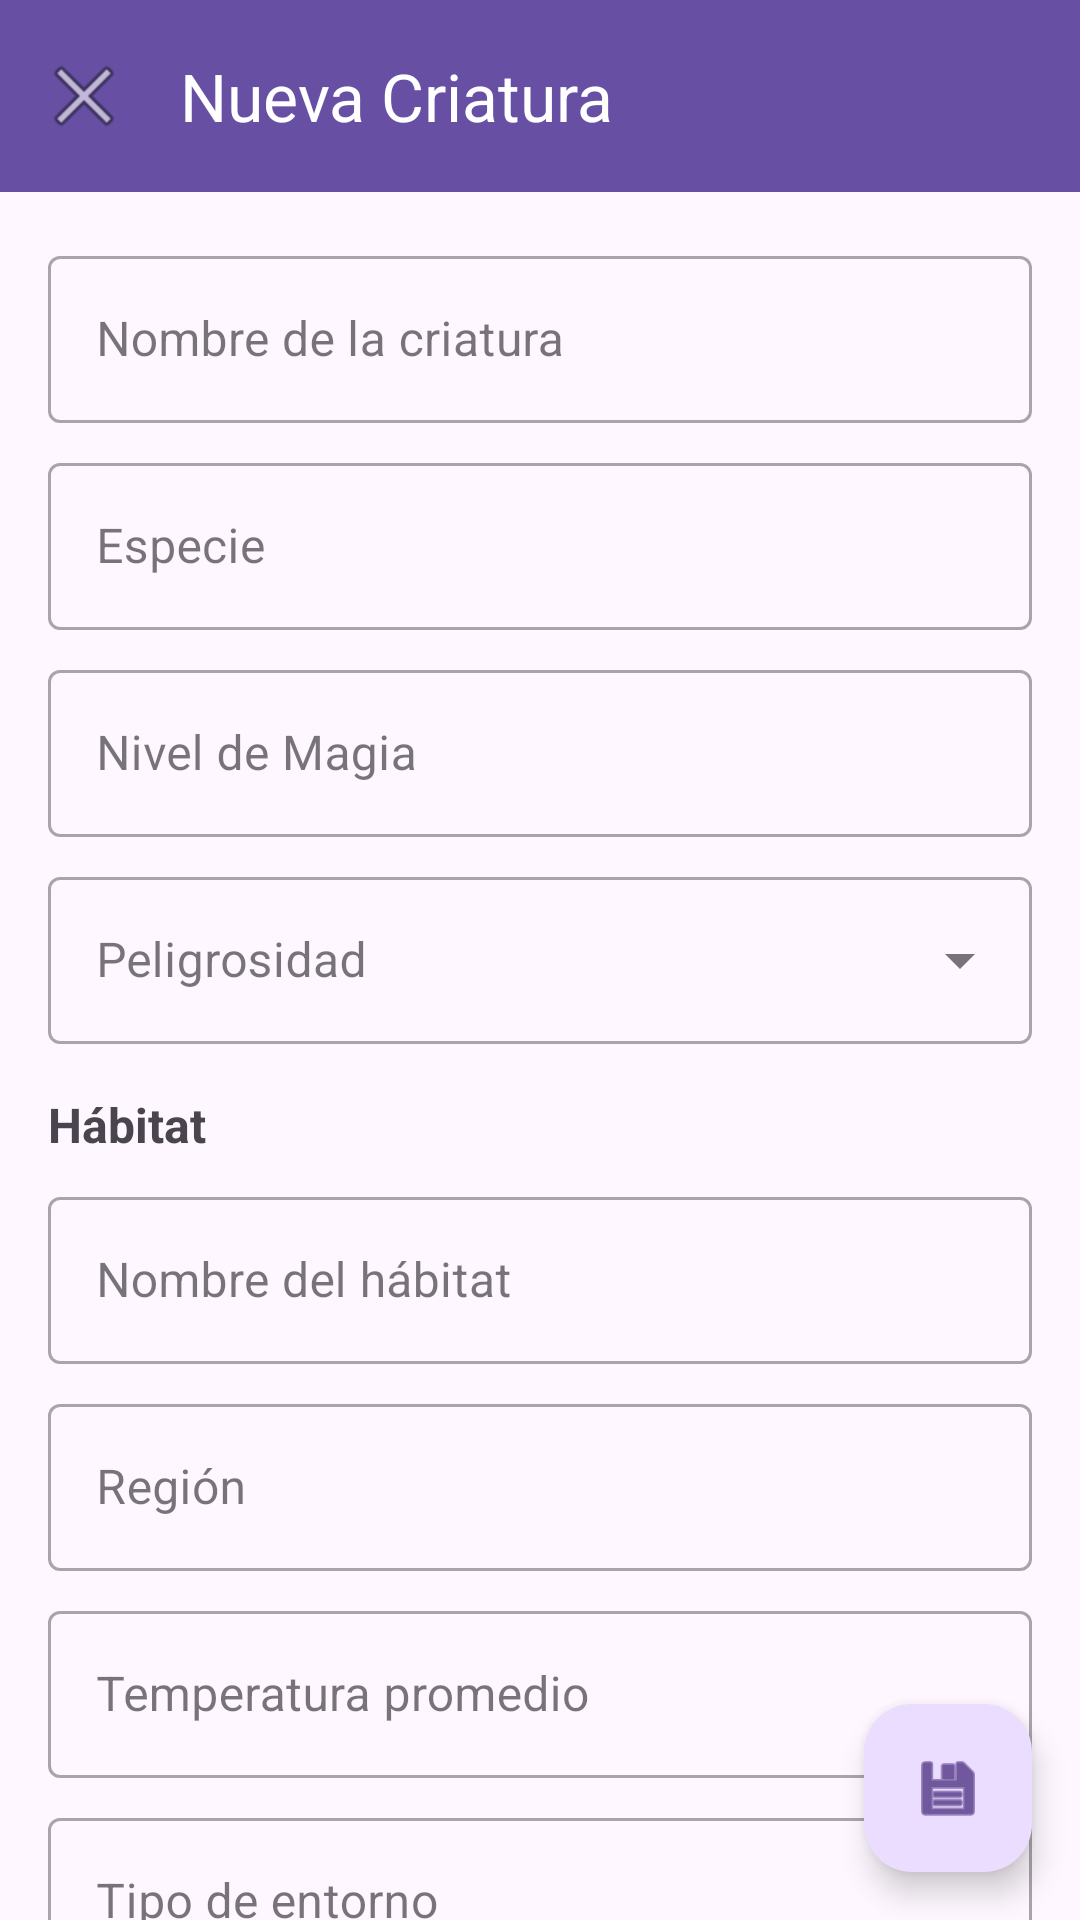

Named icons in this screenshot (1080x1920) and their centers, [x,y]:
Guardar criatura: [948,1788]
